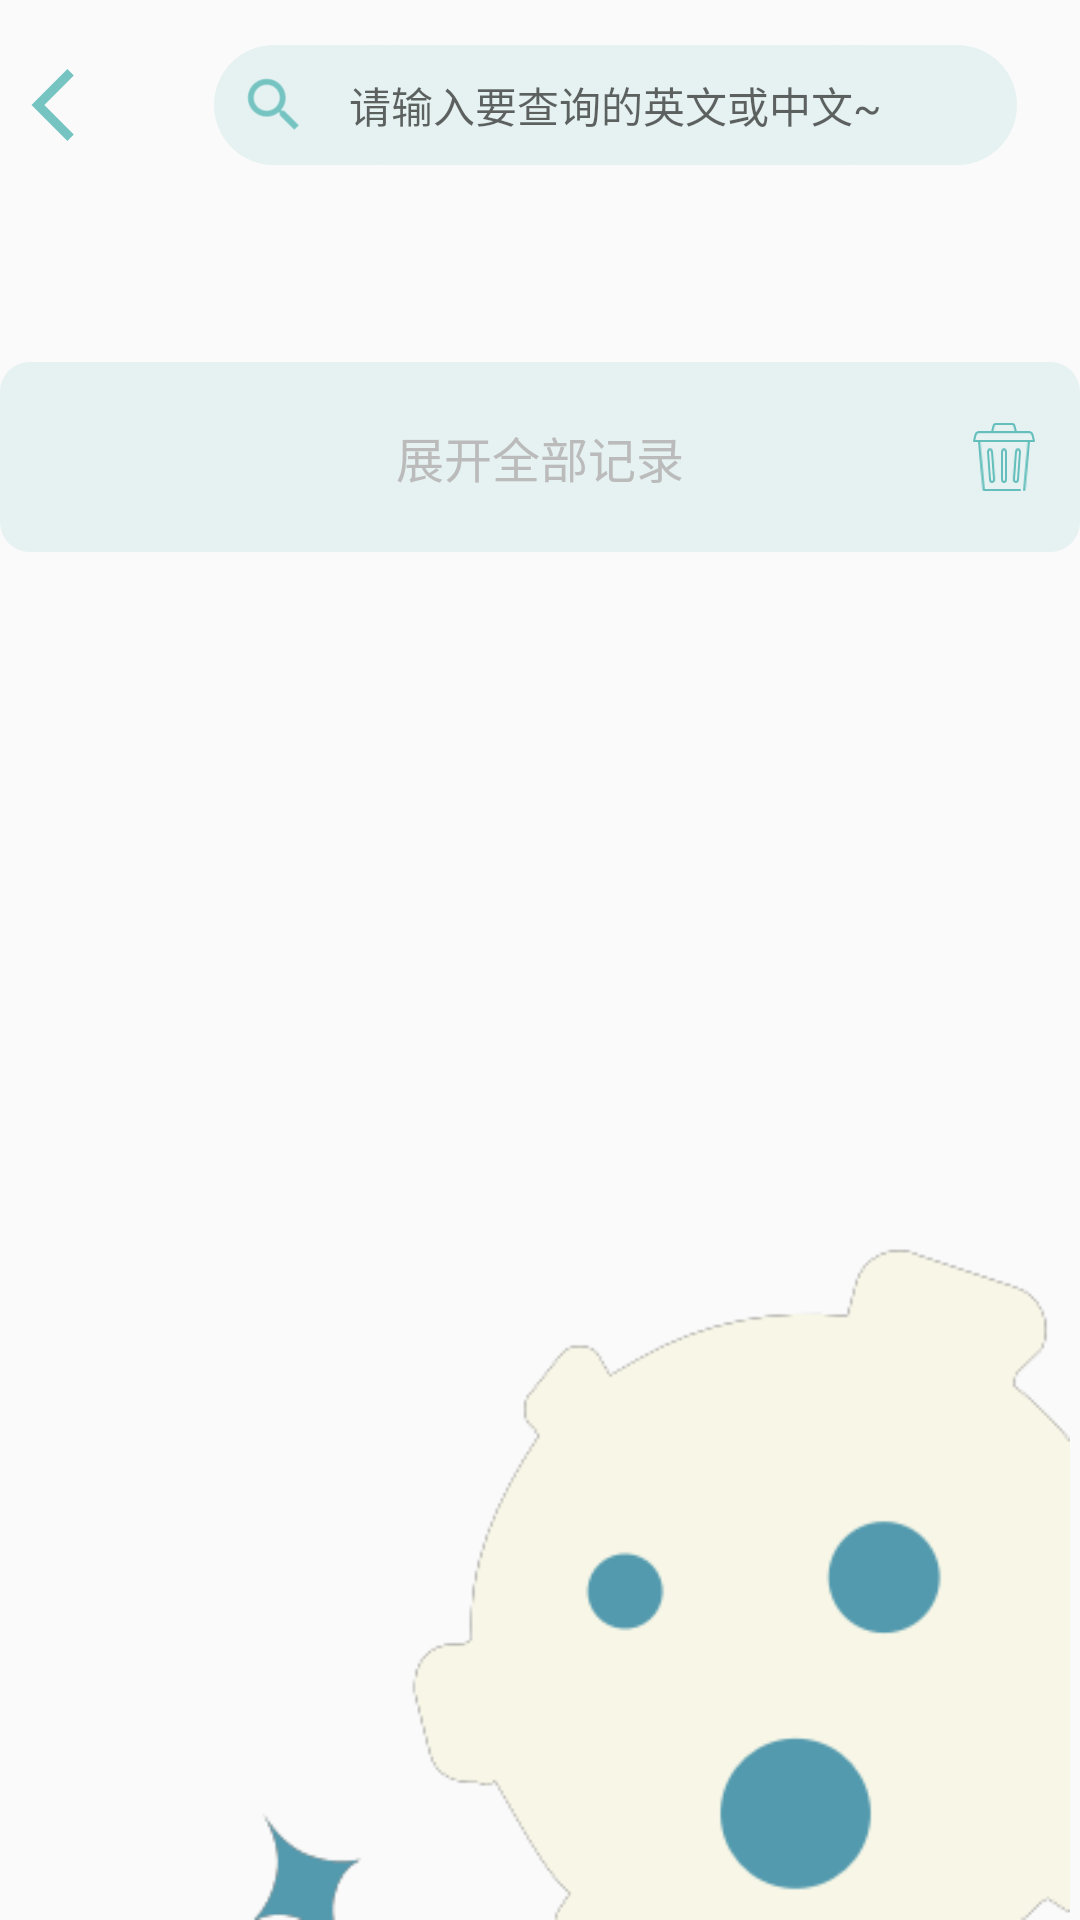

Icons on this 1080x1920 Android screen, each with its box as [x1=x1, y1=y1, x2=x2, y2=y2]:
back: [x1=32, y1=69, x2=74, y2=141]
clear: [x1=973, y1=423, x2=1035, y2=491]
search: [x1=214, y1=45, x2=334, y2=165]
